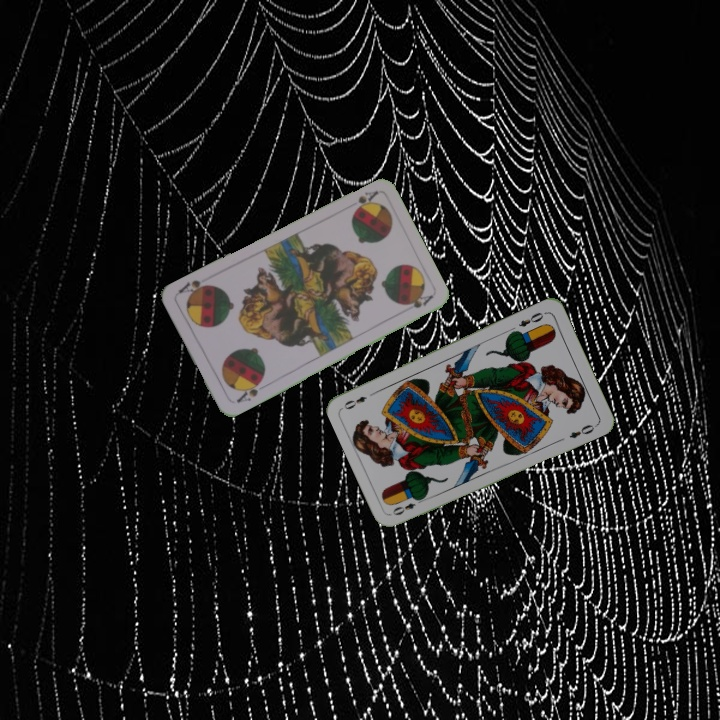EO: (388, 494, 427, 518), (515, 308, 549, 330)
SA: (232, 376, 265, 406), (350, 187, 381, 214)
